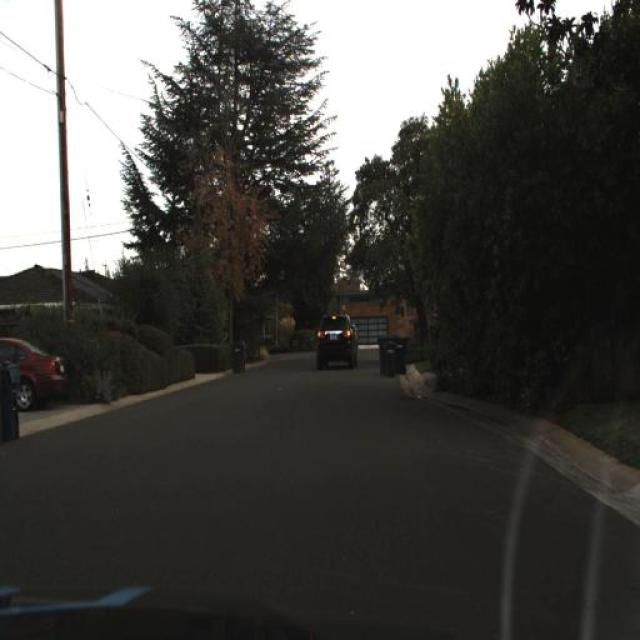car: (0, 333, 68, 411), (314, 300, 364, 382)
